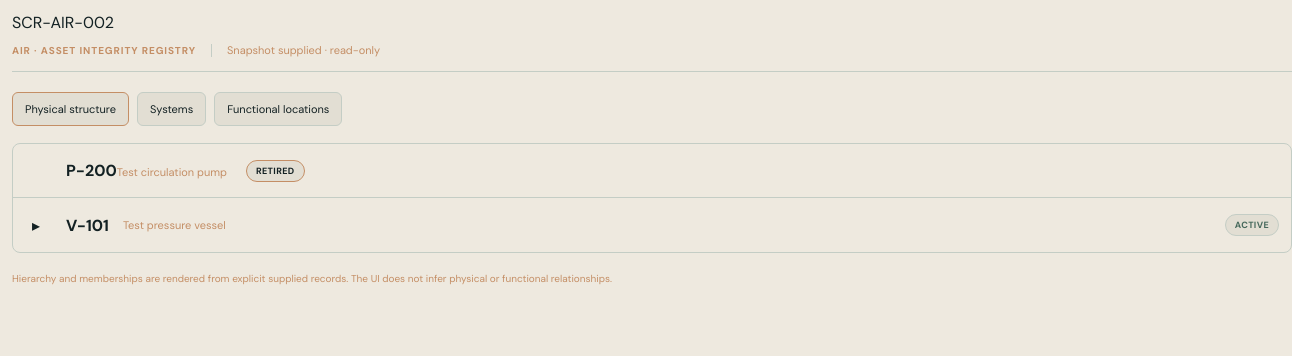
Test: future AIR frontend presentation boundary › expands physical hierarchy from explicit parent links
Expected: the text "Test nozzle" is not shown
Click the button named "Expand V-101" at coordinates (36, 225), box [25,208,47,242]
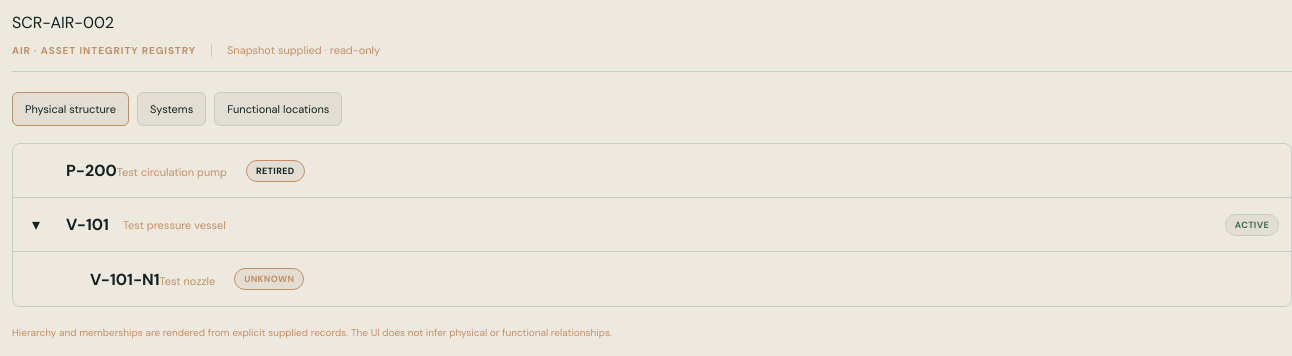
Expected: the text "Test nozzle" is shown, [160,274,215,288]
Click the button named "Collapse V-101" at coordinates (36, 224), box [25,207,47,242]
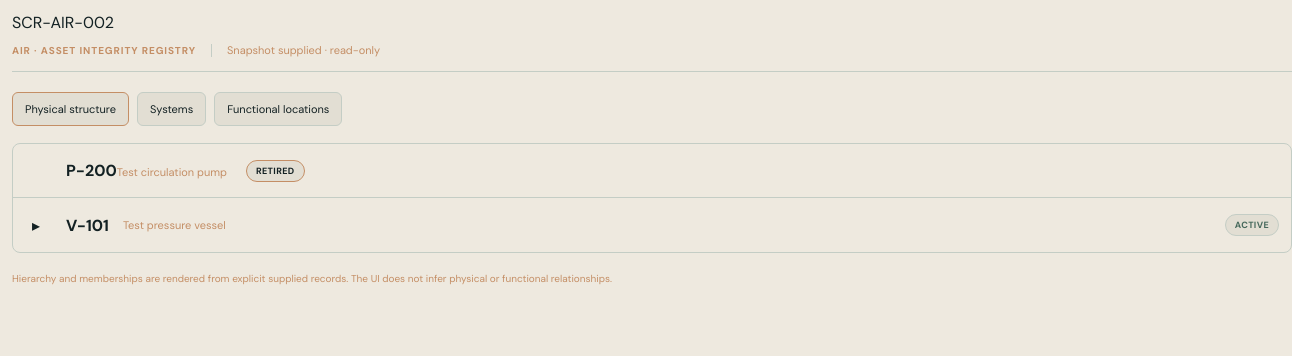
Expected: the button "Test nozzle" is gone
